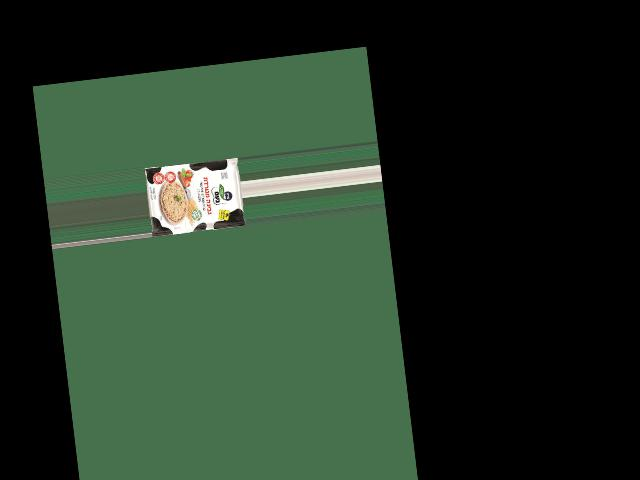cheese: (147, 146, 238, 238)
